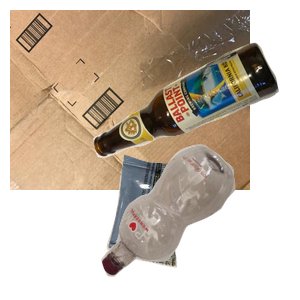cardboard: (10, 10, 250, 190)
glass: (91, 40, 300, 190)
plastic: (99, 142, 300, 300)
trash: (104, 152, 280, 300)
